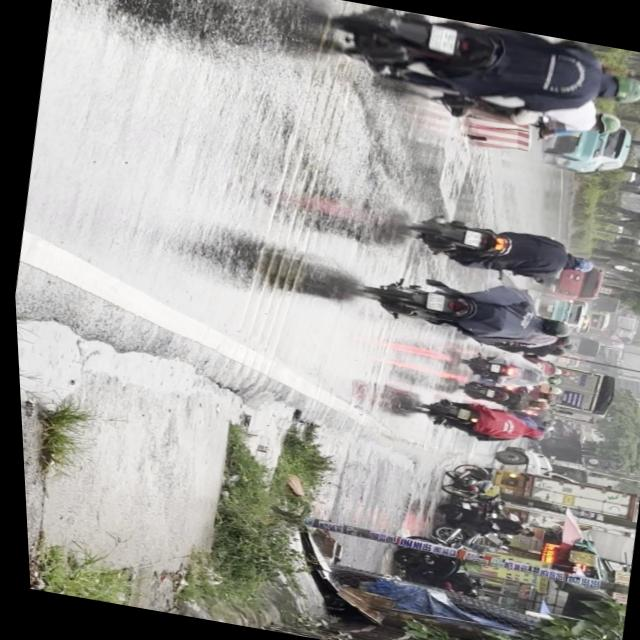helmet: (601, 70, 640, 105), (536, 315, 570, 337), (592, 110, 623, 134), (565, 253, 594, 272)
licenseplate: (319, 0, 640, 142), (354, 260, 579, 354), (401, 206, 599, 288)
nohelmet: (428, 23, 460, 52), (423, 290, 444, 310), (461, 228, 480, 245)
